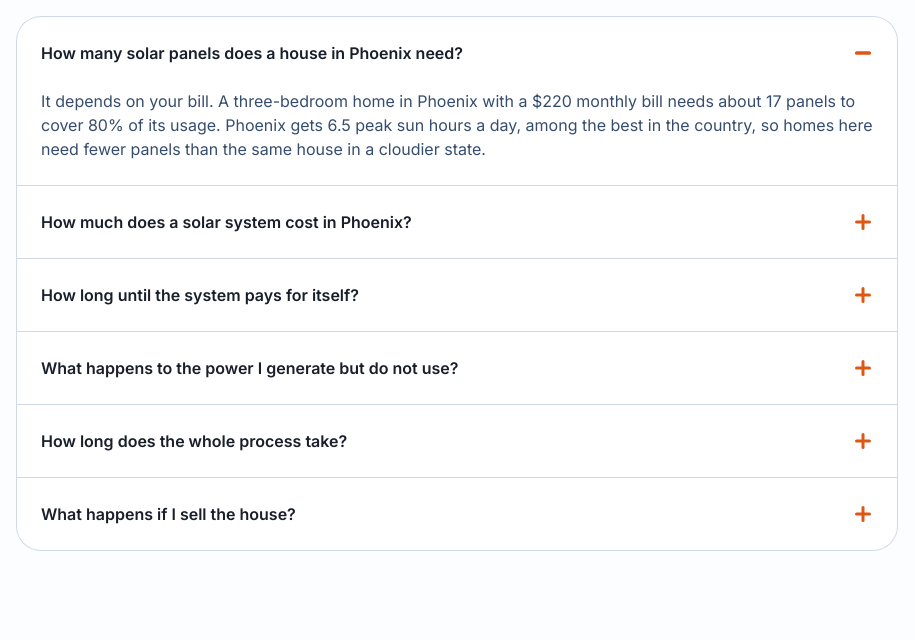
Test: FaqList › questions open and close independently
This screenshot has width=915, height=640.
Step 1. Click the button "How much does a solar system cost in Phoenix?" → (226,222), box [17,186,897,258]
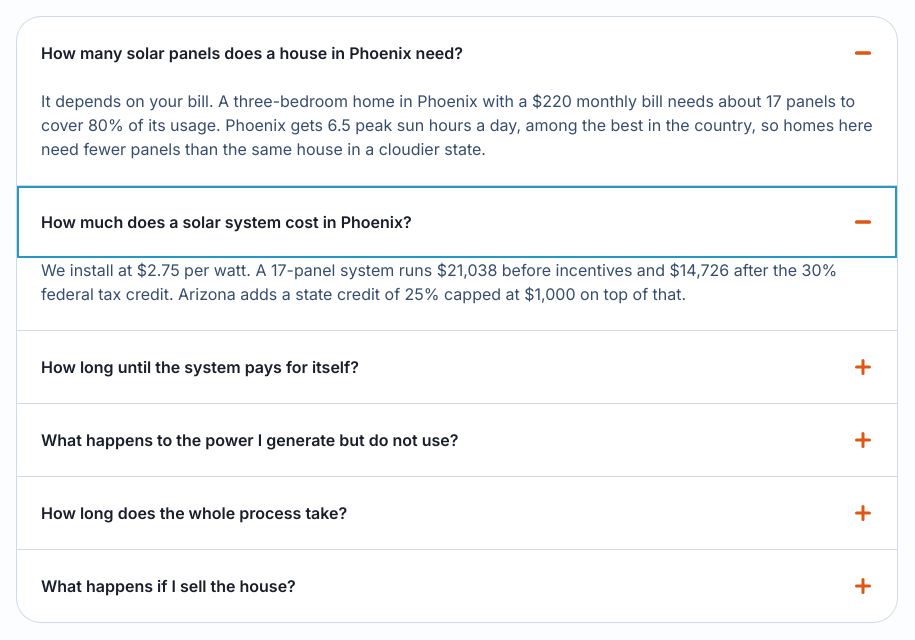
Expected: the button "How much does a solar system cost in Phoenix?" is expanded, [17,186,897,258]
Step 2. Click the button "How many solar panels does a house in Phoenix need?" → (457,53), box [17,17,897,89]
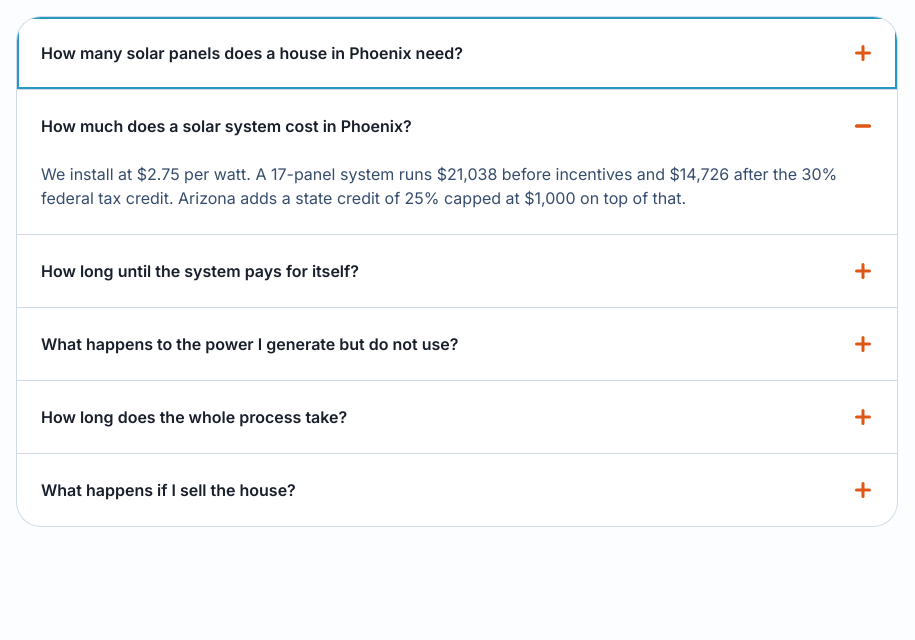
Expected: the button "How many solar panels does a house in Phoenix need?" is collapsed, [17,17,897,89]
